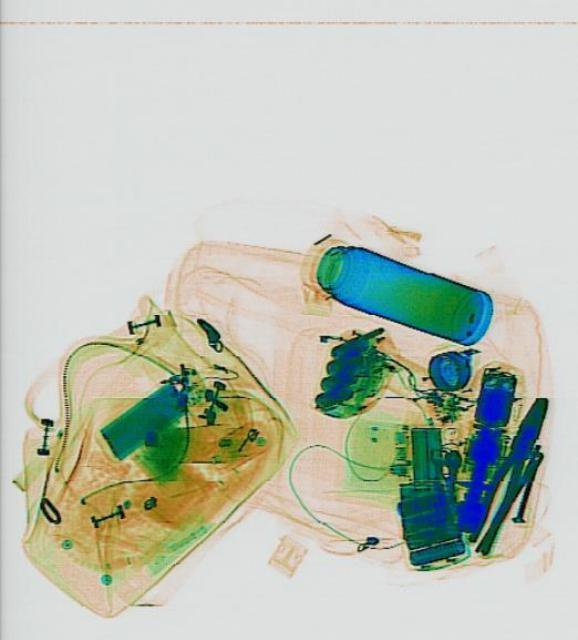Pliers: (456, 390, 554, 556)
